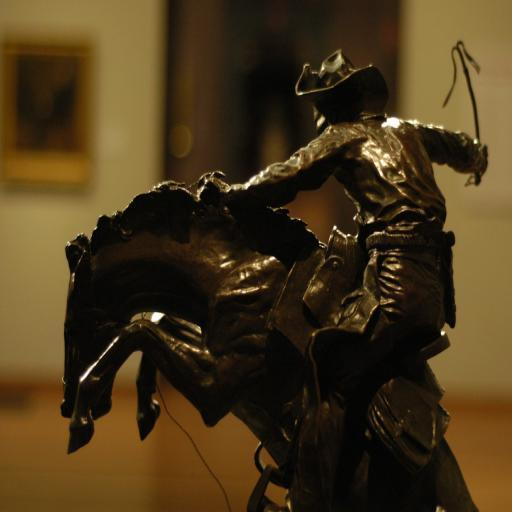horse: (59, 179, 480, 512)
